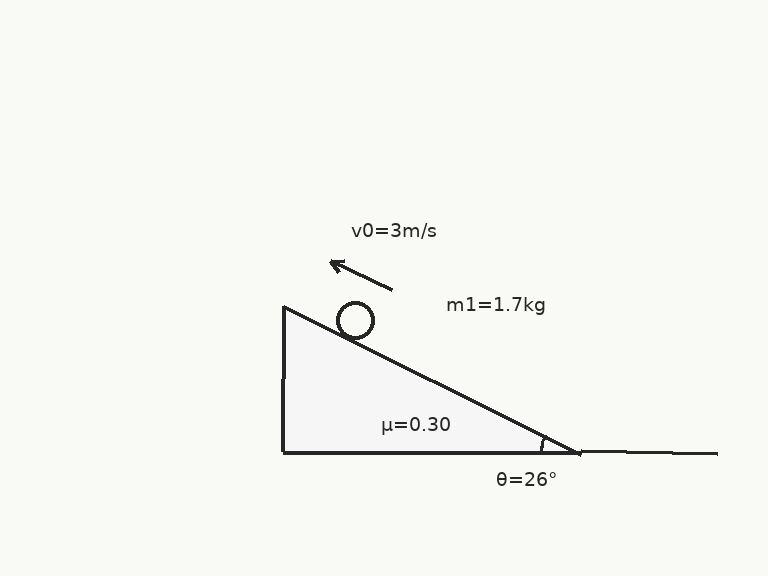ball: (334, 299, 376, 341)
ramp: (281, 304, 583, 454)
